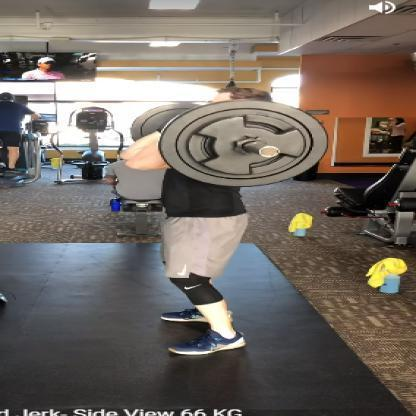barbell: (129, 99, 330, 189)
